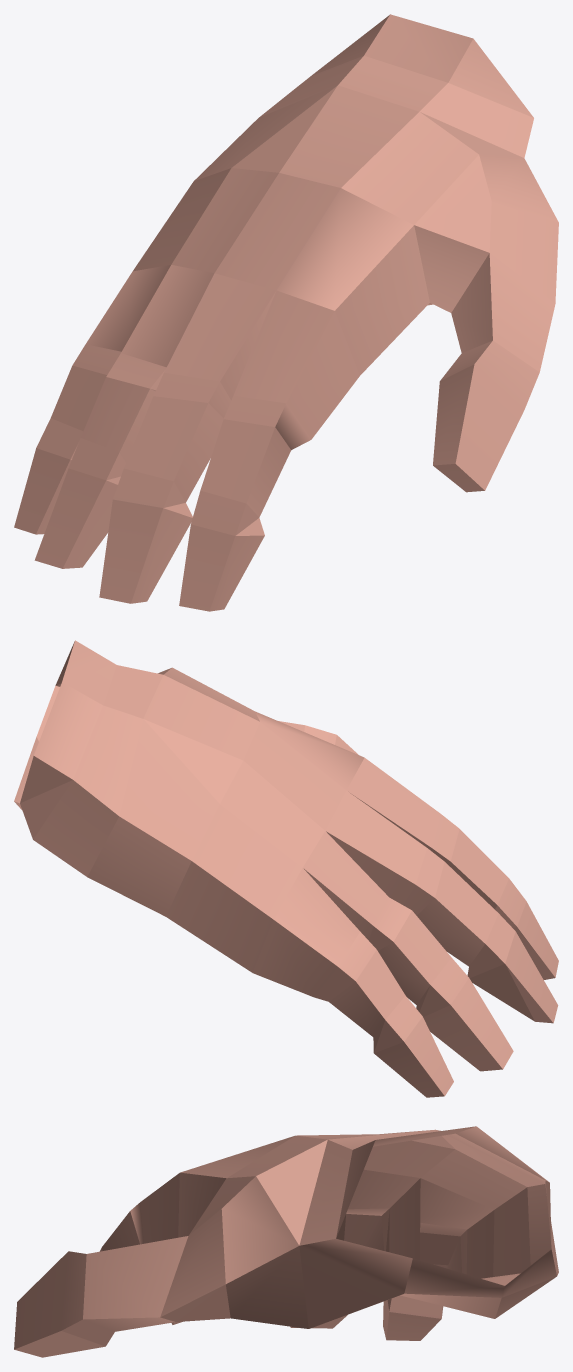
The model's file is cutrmumrhand.fbx.
3 views of the same model, one above another, from view 1: azimuth 30°, elevation 25°; view 2: azimuth 150°, elevation 25°; view 3: azimuth 270°, elevation 25° (orthographic). The views are drawn at different scales.
Parts seen in each view (by area): view 1: mum.018; view 2: mum.018; view 3: mum.018.
Part boxes in pixels (x1,y1,x2,y2): mum.018: (14, 14, 558, 611); mum.018: (14, 640, 558, 1097); mum.018: (14, 1126, 558, 1357).
Size of the model in its own units: 17.82 by 13.54 by 16.21.
